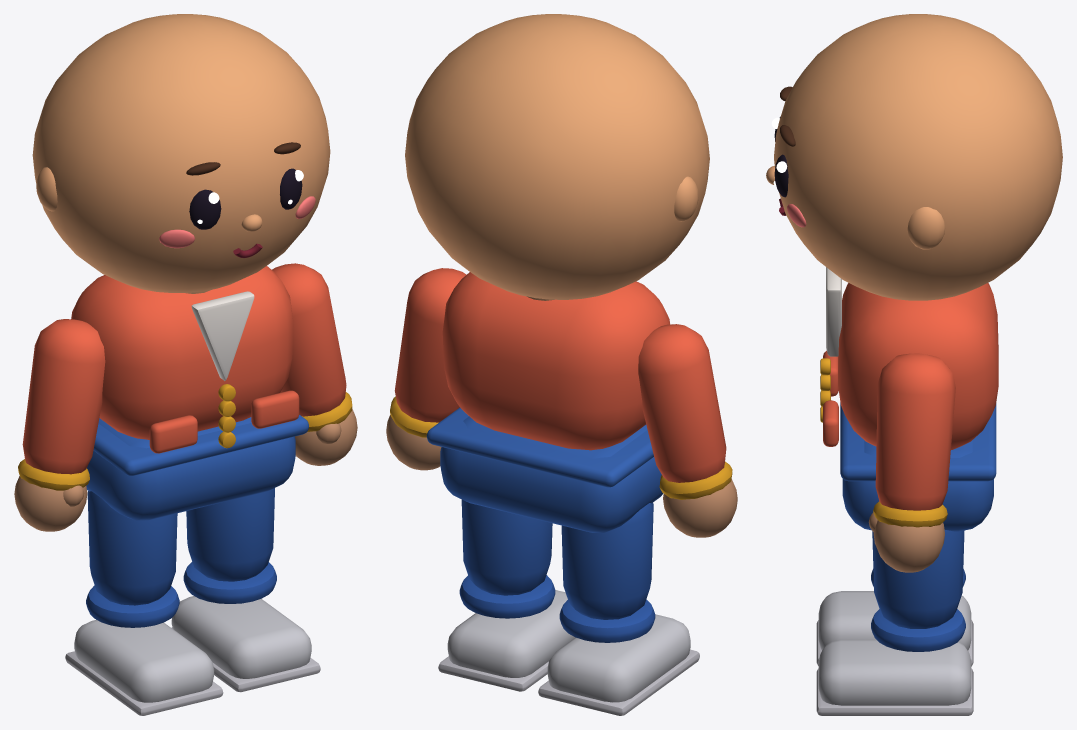
File: body_elder_cardigan.glb
The picture shows the model from 3 angles, left to right: view 1: azimuth 30°, elevation 25°; view 2: azimuth 150°, elevation 25°; view 3: azimuth 270°, elevation 25°; orthographic projection. The views are drawn at different scales.
Visible parts, largest first — view 1: Head, Torso, LegR, LegL, Hips, ArmR, ArmL; view 2: Head, Torso, LegR, Hips, LegL, ArmR, ArmL; view 3: Head, Torso, LegL, ArmL, Hips, LegR.
Boxes of the visible parts, left/top/right/bottom form: Head: left=32, top=14, right=330, bottom=292; Torso: left=71, top=266, right=299, bottom=453; LegR: left=65, top=491, right=223, bottom=715; LegL: left=171, top=488, right=320, bottom=692; Hips: left=86, top=415, right=308, bottom=520; ArmR: left=14, top=319, right=105, bottom=531; ArmL: left=272, top=263, right=357, bottom=465; Head: left=405, top=14, right=709, bottom=299; Torso: left=442, top=272, right=670, bottom=450; LegR: left=538, top=503, right=699, bottom=715; Hips: left=426, top=407, right=663, bottom=532; LegL: left=438, top=499, right=574, bottom=691; ArmR: left=638, top=324, right=737, bottom=537; ArmL: left=386, top=268, right=466, bottom=470; Head: left=766, top=14, right=1062, bottom=300; Torso: left=820, top=267, right=998, bottom=449; LegL: left=816, top=530, right=973, bottom=715; ArmL: left=868, top=353, right=955, bottom=572; Hips: left=840, top=402, right=996, bottom=531; LegR: left=816, top=569, right=973, bottom=666.
Bounding box in the file's own units: 0.7384 × 1.34 × 0.5599.
